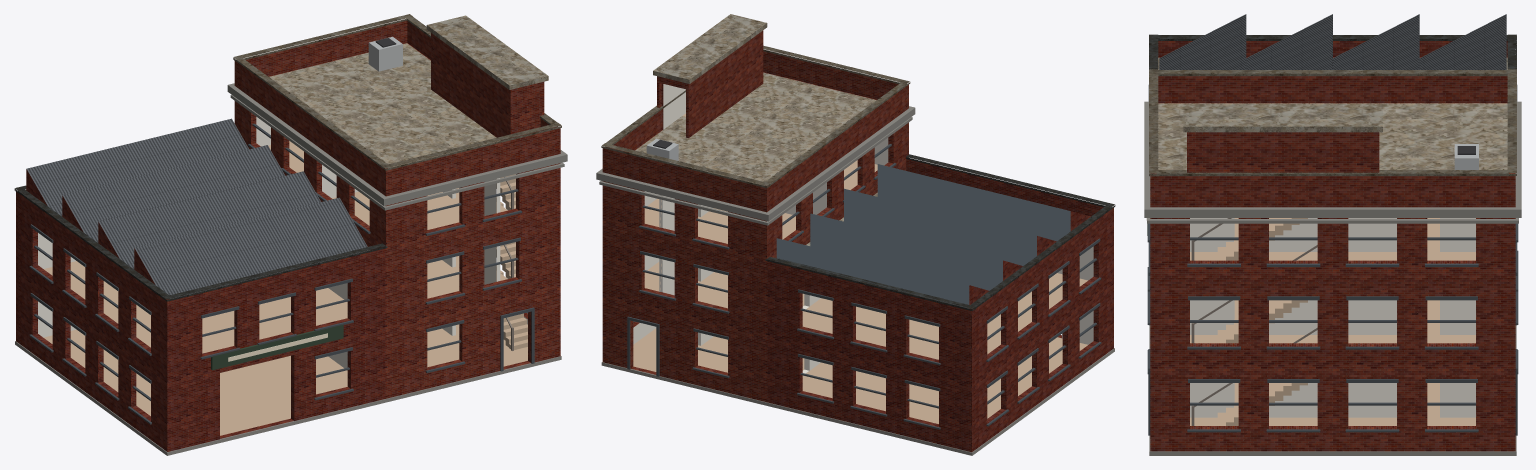
Rendered from mh-sawtooth-works.towns-v2.lod0.glb.
The picture shows the model from 3 angles, left to right: view 1: azimuth 30°, elevation 25°; view 2: azimuth 150°, elevation 25°; view 3: azimuth 270°, elevation 25°; orthographic projection. The views are drawn at different scales.
Parts seen in each view (by area): view 1: mh-sawtooth-works; view 2: mh-sawtooth-works; view 3: mh-sawtooth-works.
Part boxes in pixels (bbox=[...]): mh-sawtooth-works: bbox=[14, 14, 567, 455]; mh-sawtooth-works: bbox=[596, 14, 1115, 455]; mh-sawtooth-works: bbox=[1144, 14, 1521, 455].
Size of the model in its own units: 18.29 by 11.97 by 12.4.
Materials: 6 (3 with a texture image).
